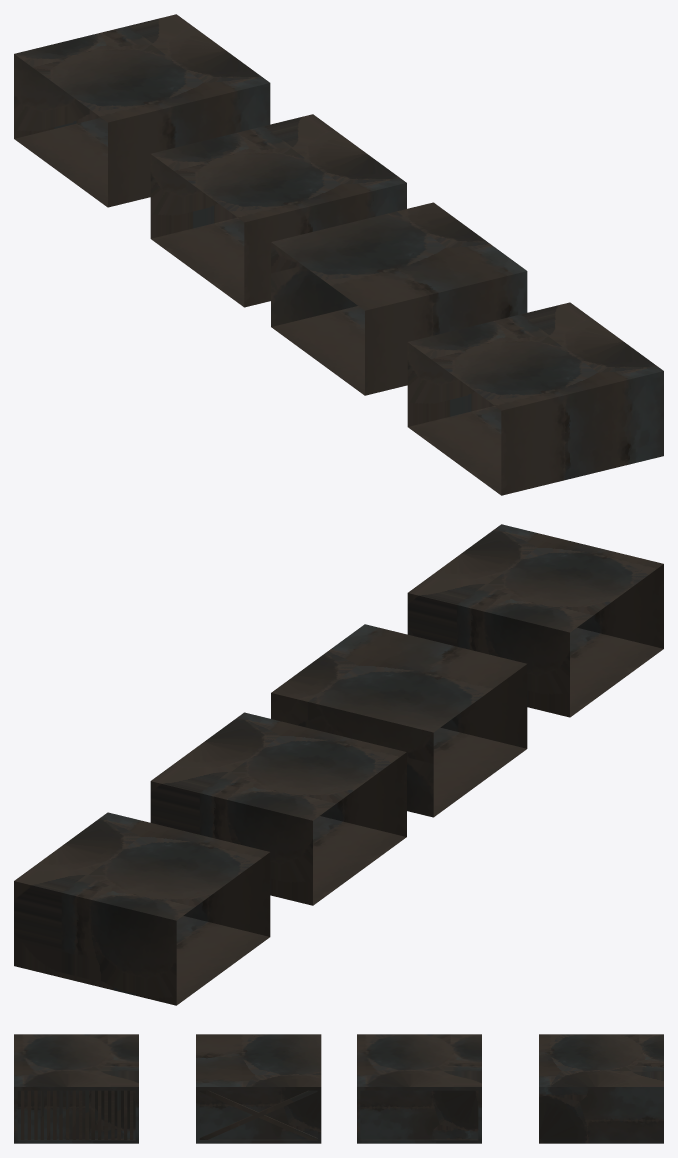
Rendered from Walls.fbx.
3 views of the same model, one above another, from view 1: azimuth 30°, elevation 25°; view 2: azimuth 150°, elevation 25°; view 3: azimuth 270°, elevation 25° (orthographic). The views are drawn at different scales.
Visible parts, largest first — view 1: Block2, Block1, Block3, Block4; view 2: Block3, Block2, Block4, Block1; view 3: Block1, Block2, Block3, Block4.
Part boxes in pixels (x1,y1,x2,y2): Block2: [407, 302, 663, 495]; Block1: [271, 202, 527, 395]; Block3: [14, 14, 270, 207]; Block4: [150, 114, 406, 307]; Block3: [14, 812, 270, 1005]; Block2: [407, 524, 663, 717]; Block4: [150, 712, 406, 905]; Block1: [271, 624, 527, 817]; Block1: [196, 1034, 321, 1143]; Block2: [14, 1034, 138, 1143]; Block3: [539, 1034, 663, 1143]; Block4: [357, 1034, 481, 1143].
Bounding box in the file's own units: 200 × 99.99 × 1039.
